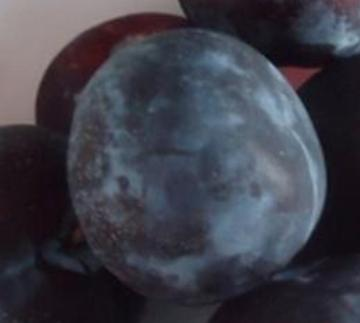plum_A: (65, 28, 328, 305)
